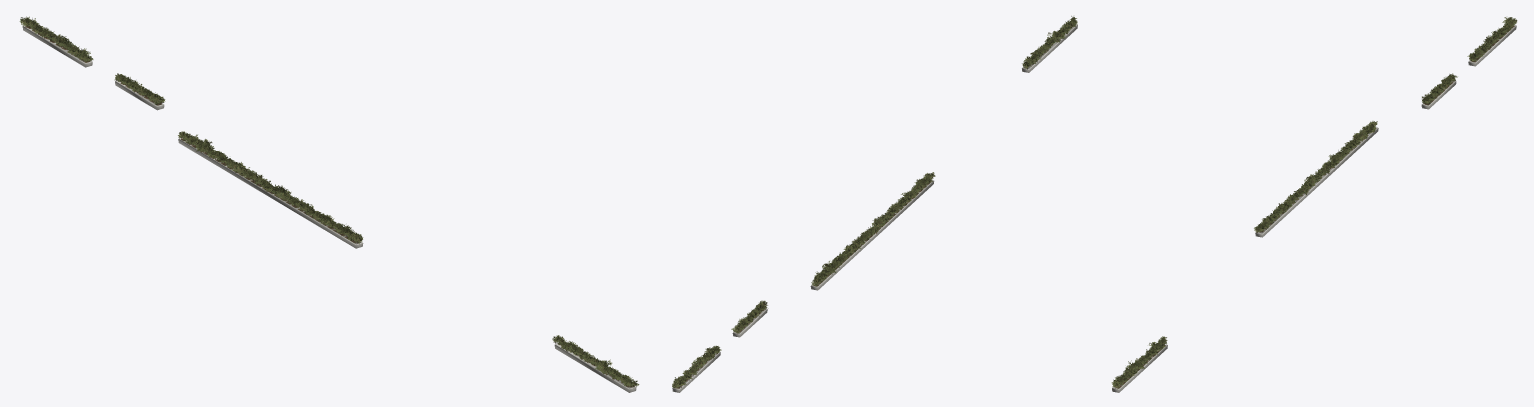
3 renders of one model, left to right at view 1: azimuth 30°, elevation 25°; view 2: azimuth 150°, elevation 25°; view 3: azimuth 330°, elevation 25°, orthographic. The views are drawn at different scales.
Parts seen in each view (by area): view 1: Distant promenade shrubs, Planting trough; view 2: Distant promenade shrubs, Planting trough; view 3: Distant promenade shrubs, Planting trough.
Part boxes in pixels (box(x1,y1,x2,y2)): Distant promenade shrubs: box(19, 16, 639, 387); Planting trough: box(22, 26, 636, 392); Distant promenade shrubs: box(672, 16, 1077, 388); Planting trough: box(672, 24, 1077, 392); Distant promenade shrubs: box(1111, 17, 1517, 389); Planting trough: box(1112, 25, 1516, 392).
Bounding box in the file's own units: 6.82 × 1.01 × 62.71.
Materials: 3 (2 with a texture image).
